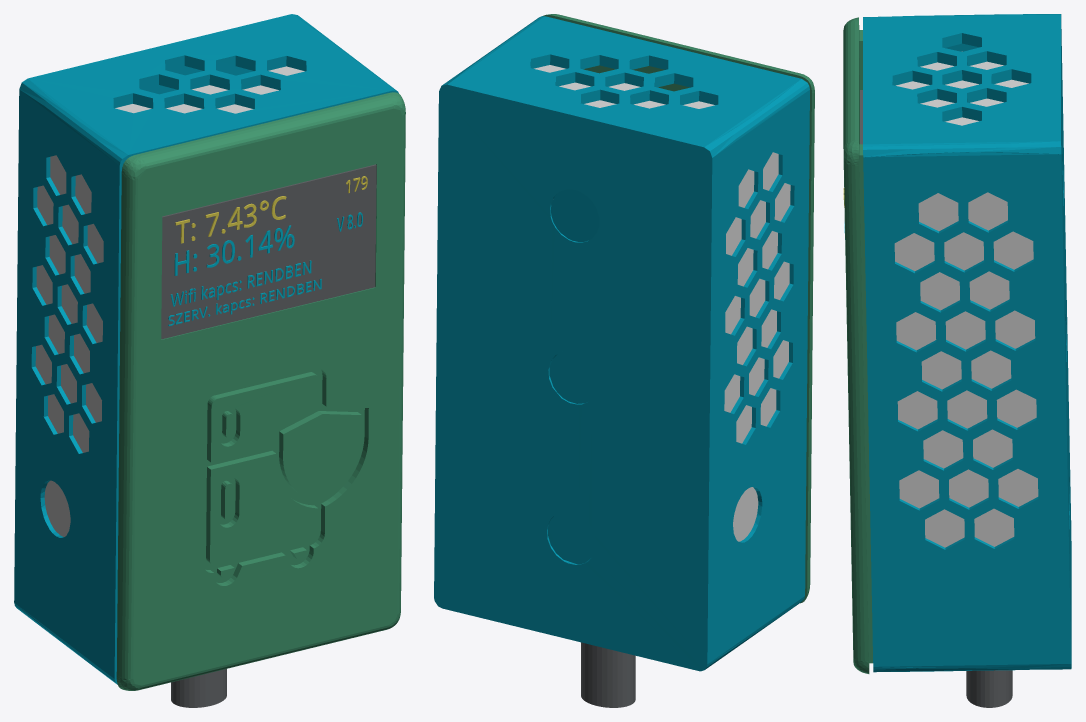
File: kek_zold.glb
3 renders of one model, left to right at view 1: azimuth 30°, elevation 25°; view 2: azimuth 150°, elevation 25°; view 3: azimuth 270°, elevation 25°, orthographic. The views are drawn at different scales.
Visible parts, largest first — view 1: Mesh_Mesh_head_geo.001_lambert2SG.001; view 2: Mesh_Mesh_head_geo.001_lambert2SG.001; view 3: Mesh_Mesh_head_geo.001_lambert2SG.001.
Part boxes in pixels (<box>): Mesh_Mesh_head_geo.001_lambert2SG.001: <box>14,14,405,707</box>; Mesh_Mesh_head_geo.001_lambert2SG.001: <box>434,14,814,707</box>; Mesh_Mesh_head_geo.001_lambert2SG.001: <box>843,14,1071,707</box>.
Size of the model in its own units: 33 by 70.15 by 23.52.
